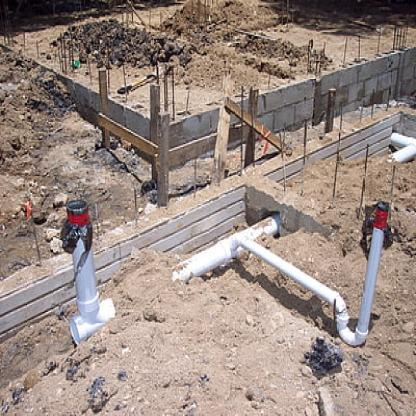PVC: (171, 204, 389, 346), (66, 198, 117, 346), (388, 132, 415, 164)
